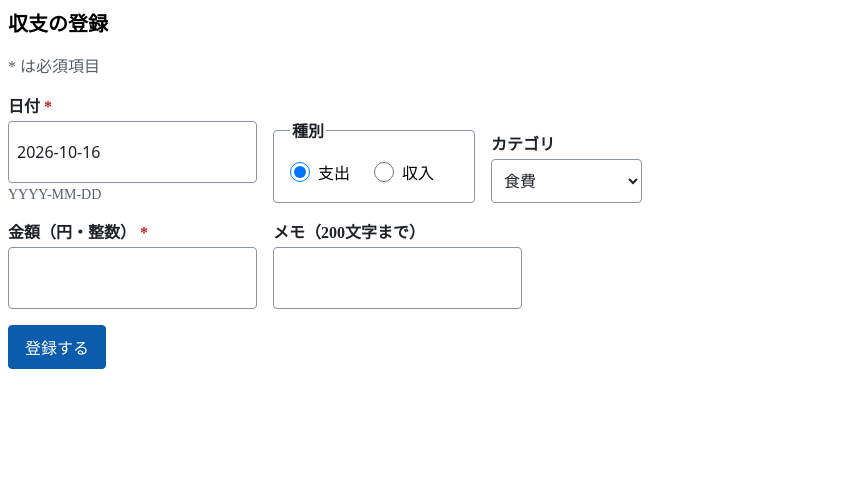
収支の登録フォーム › 入力エラーは項目ごとに表示し、最初のエラーの項目へフォーカスを移し、入力を残す（BR1.1、BR9.3）
This screenshot has width=848, height=478.
Step 1. Replace the text in the field labelled "日付" with "2026-13-01" → (132, 152), box [8,121,257,183]
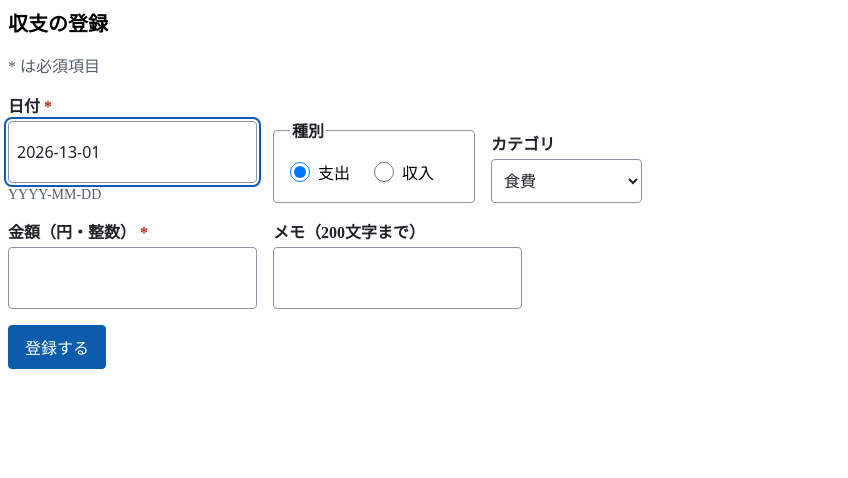
Step 2. Type "12.5" into the field labelled "金額（円・整数）" → (132, 278), box [8,247,257,309]
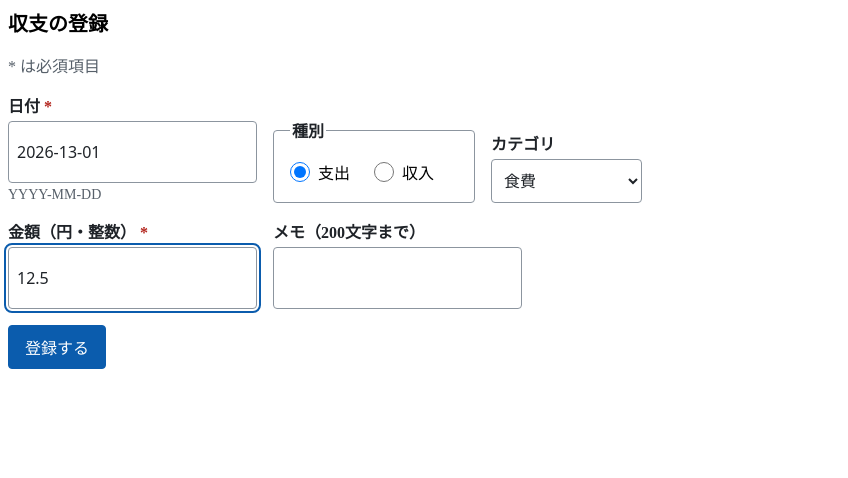
Step 3. Click the button "登録する" → click(57, 347), box [8,325,106,369]
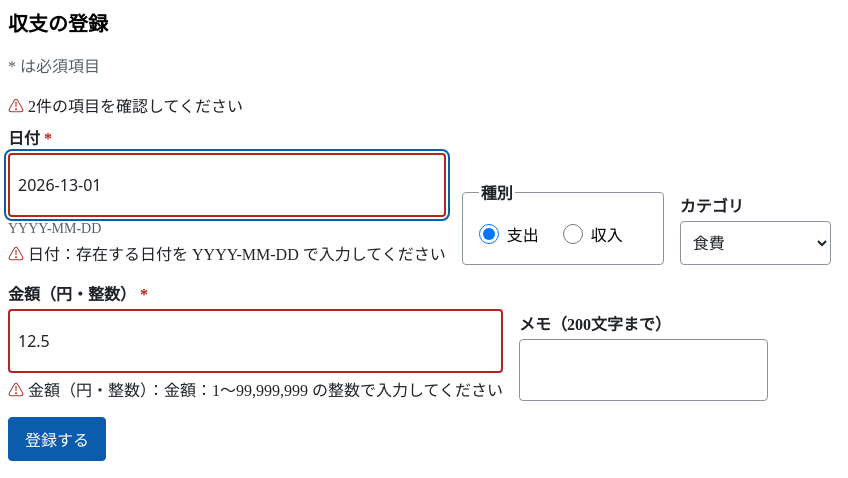
Expected: the text "2件の項目を確認してください" is shown, [28,98,243,115]
